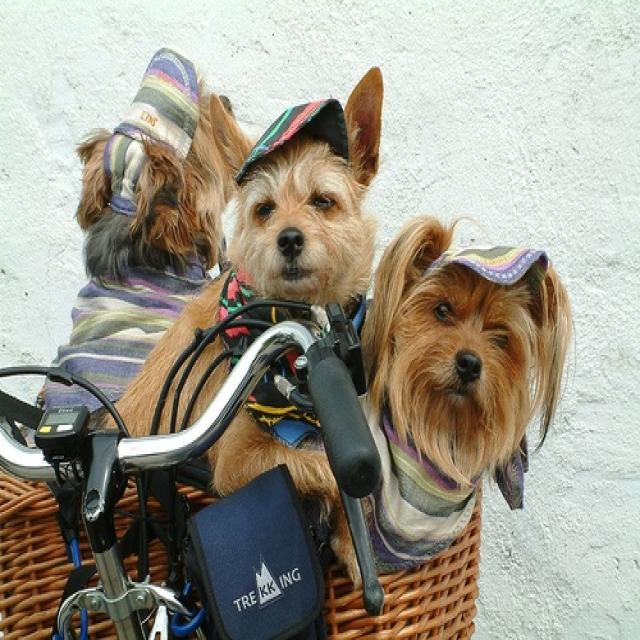bicycle: (0, 319, 381, 638)
dog: (104, 66, 380, 504), (329, 217, 575, 590), (34, 48, 219, 415)
